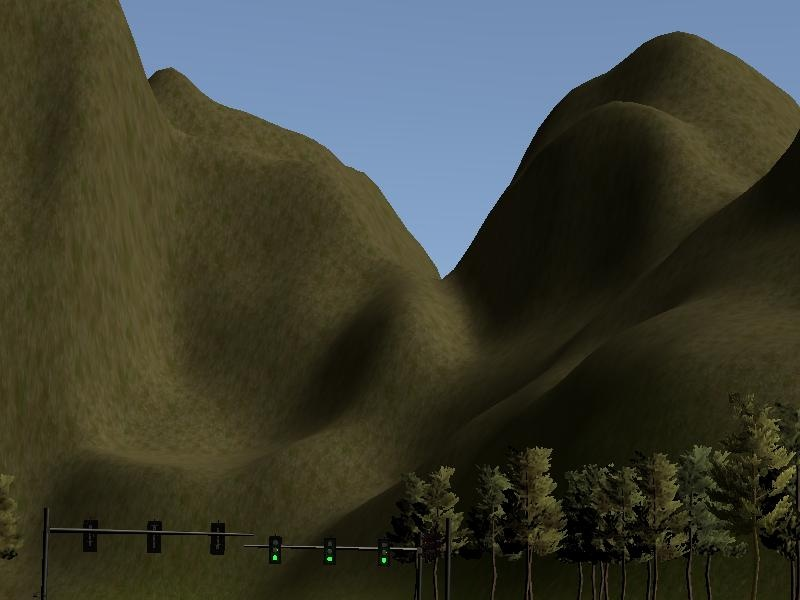green: (267, 533, 282, 566), (376, 535, 390, 566), (322, 535, 335, 564)
